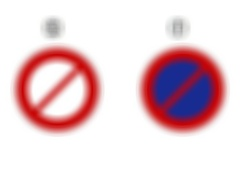Prohibition_sign: (8, 42, 104, 136), (140, 48, 225, 137)
